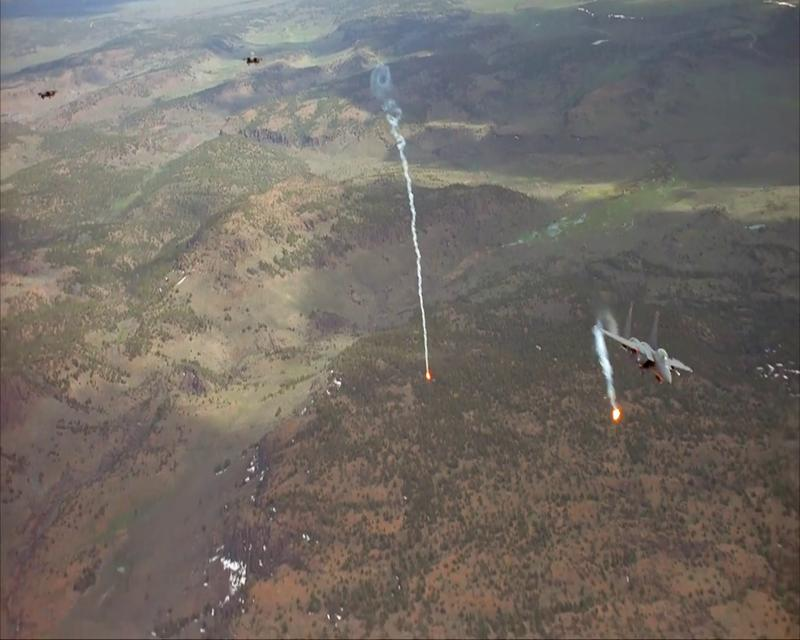UAV: (594, 303, 693, 385), (243, 47, 262, 69)
